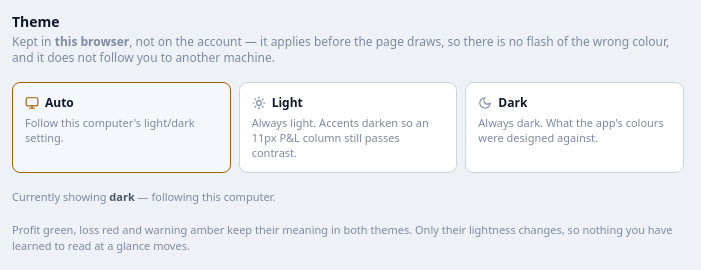
Test: AppearanceTab › applies a choice to the document
Click the radio button labelled "Light": {"x": 348, "y": 128} x1=239 y1=82 x2=457 y2=173
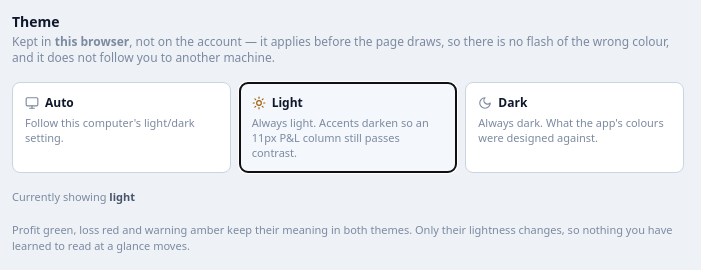
Check: the radio button labelled "Light" is checked, box x1=239 y1=82 x2=457 y2=173
